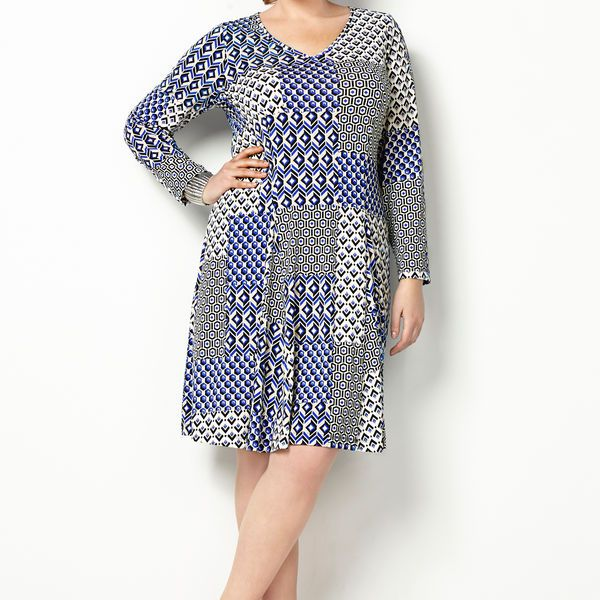C_dress: (115, 4, 444, 470)
C_skirt: (174, 198, 411, 463)
